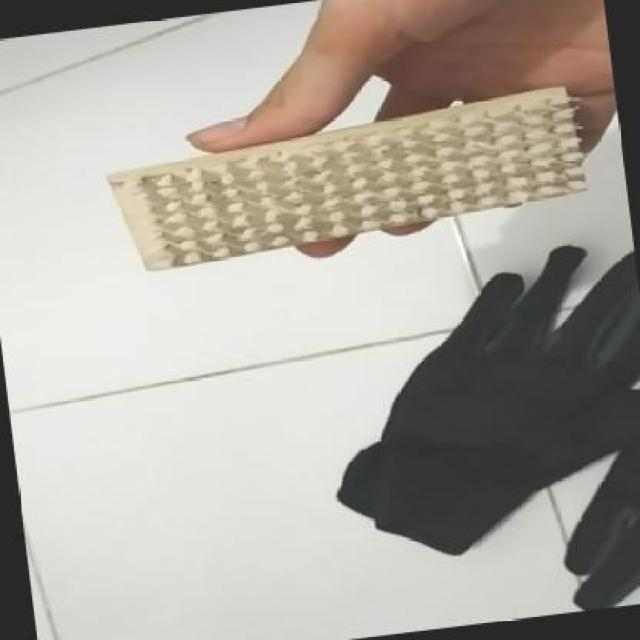gloves: (298, 250, 638, 572)
